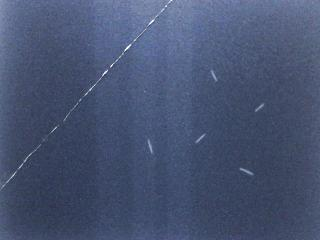crack: (0, 0, 172, 192)
scratch: (208, 66, 221, 85), (146, 136, 155, 155), (239, 166, 255, 176), (194, 132, 207, 144), (254, 102, 264, 112)
